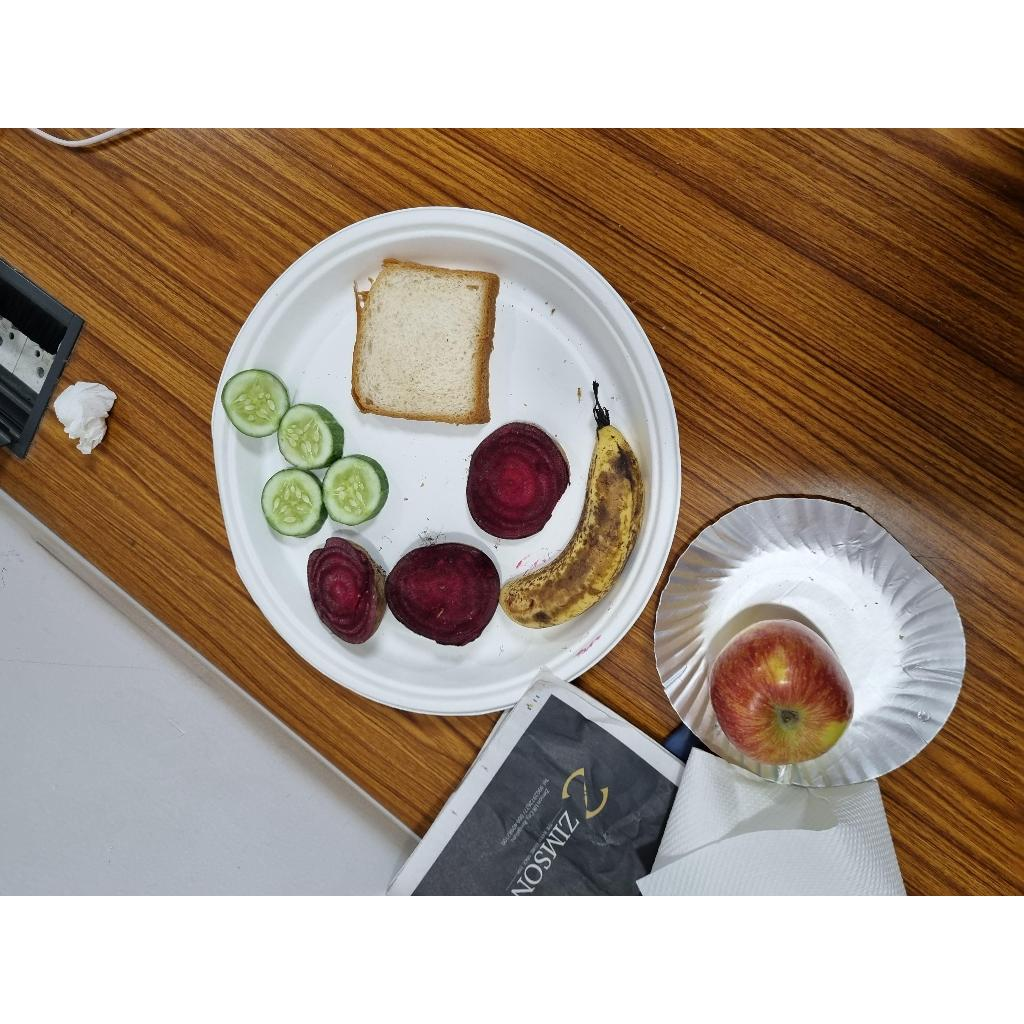apple: (710, 620, 853, 766)
banana: (500, 425, 645, 628)
cucumber: (323, 456, 388, 526)
